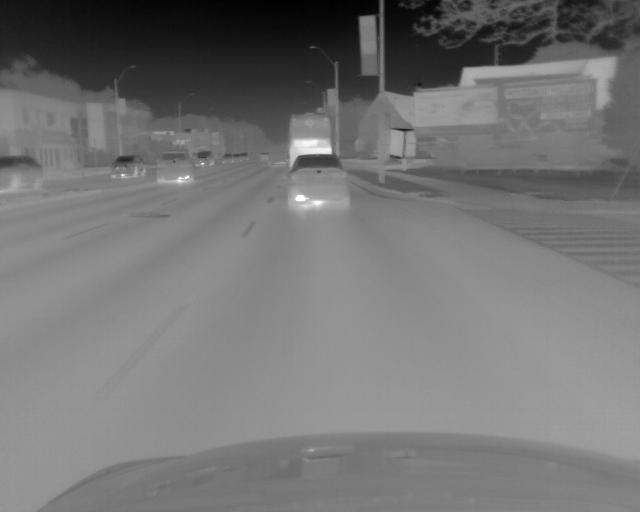car: (289, 154, 349, 211), (287, 112, 334, 164), (1, 157, 43, 195), (158, 151, 194, 184), (110, 156, 147, 181), (194, 149, 212, 167), (269, 147, 286, 166), (221, 154, 231, 165), (231, 153, 239, 163), (261, 152, 268, 162), (240, 153, 248, 161)
